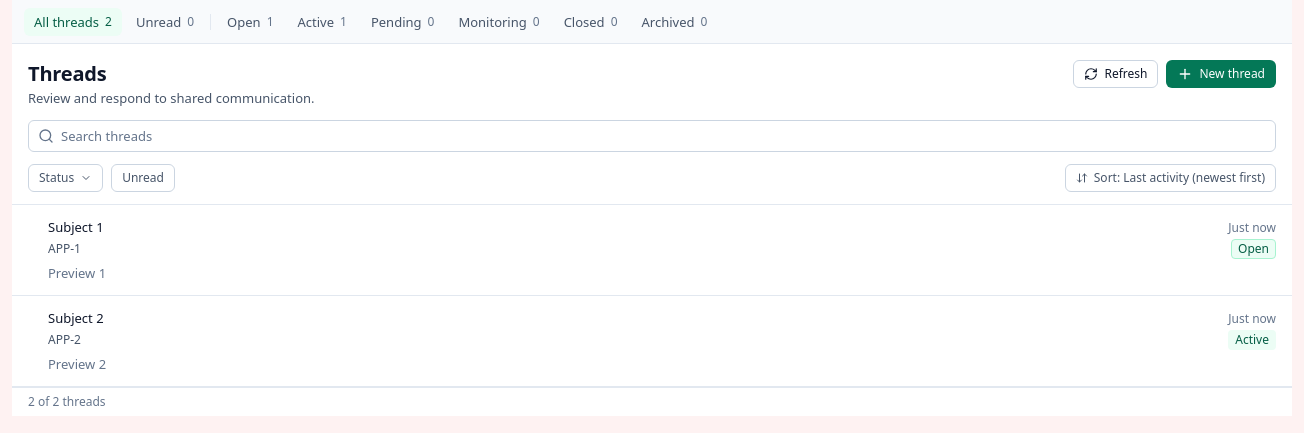
Test: Threads workspace › selecting a status view filters the list and marks the pill active, same as the old sidebar
expect the text "Subject 1" is shown: met, box [48,218,104,236]
expect the text "Subject 2" is shown: met, box [48,309,104,327]
Click the button "Active 1" at coordinates (322, 22), box [288,8,357,36]
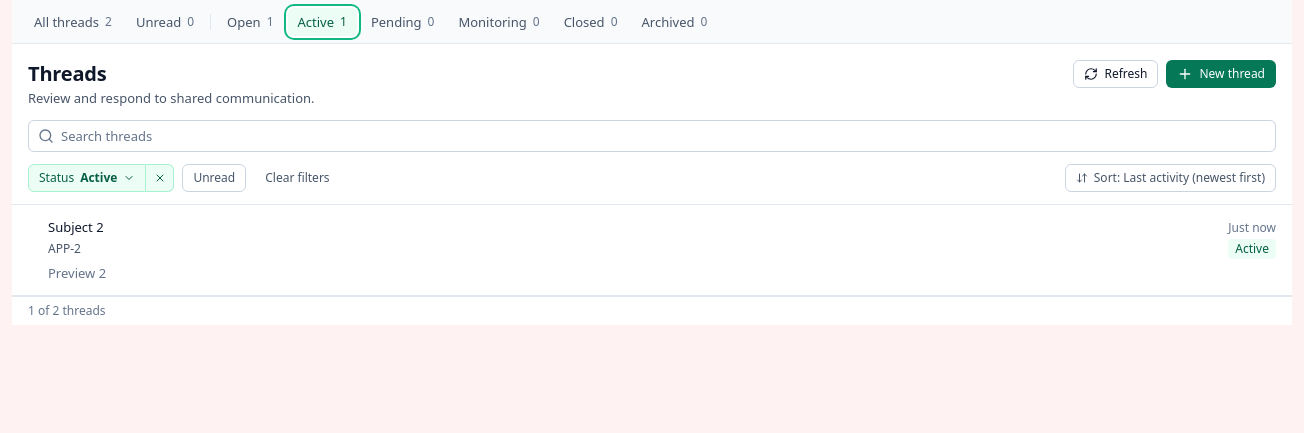
expect the text "Subject 2" is shown: met, box [48,218,104,236]
expect the button "Subject 1" is gone: met
